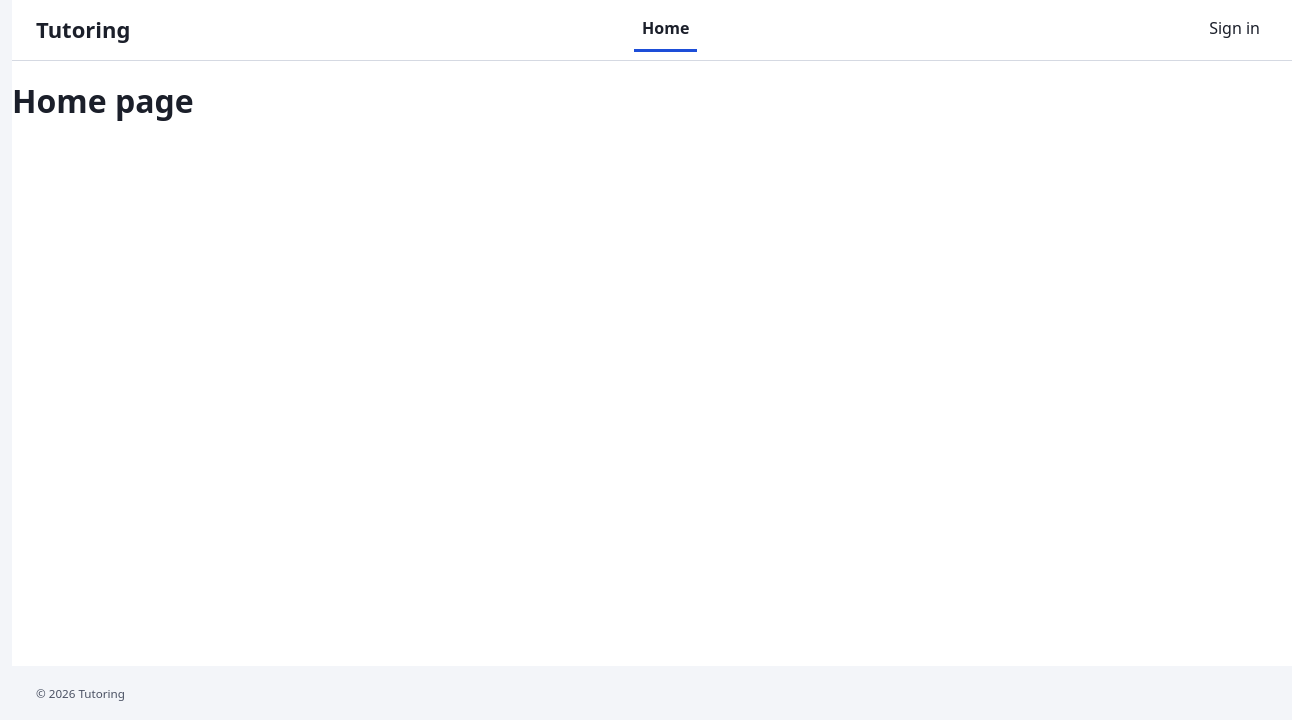
Layout › updates the title, focuses main and the current link on navigation
Click the link "Sign in": point(1235, 28) [1209, 17, 1260, 39]
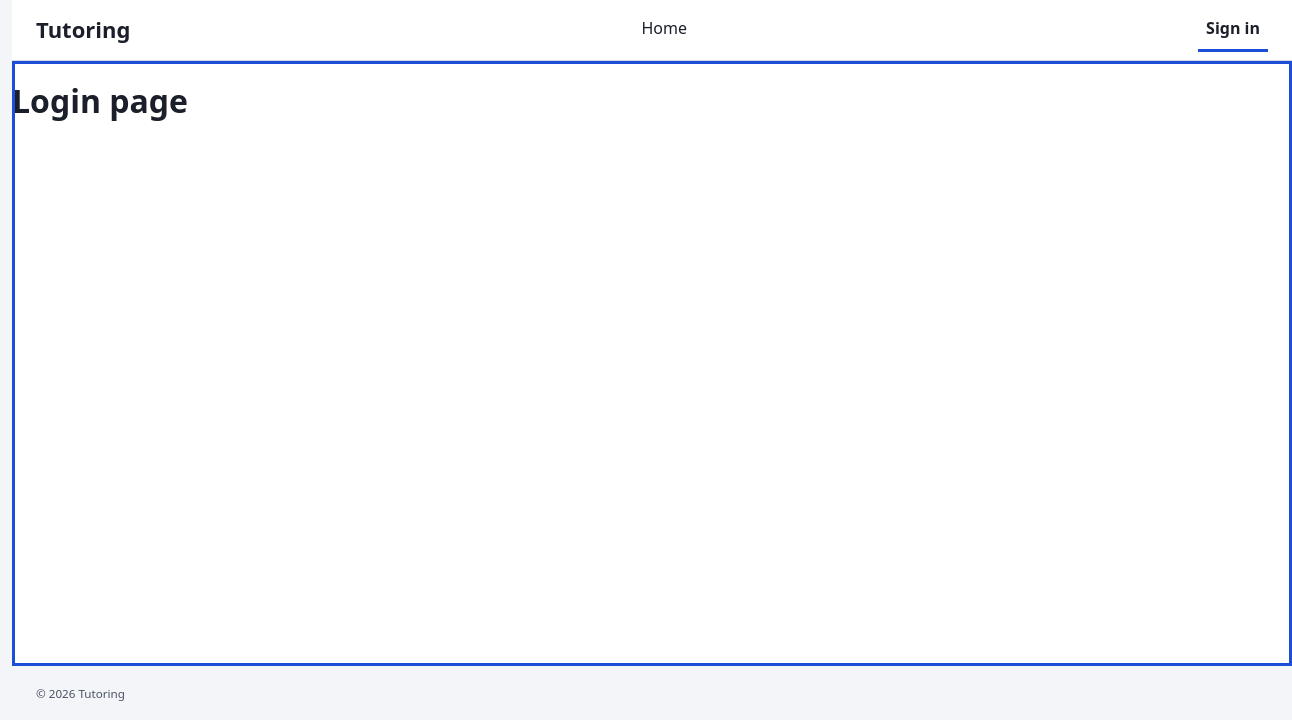
Expected: the link "Sign in" is marked as current, [1198, 8, 1268, 52]
